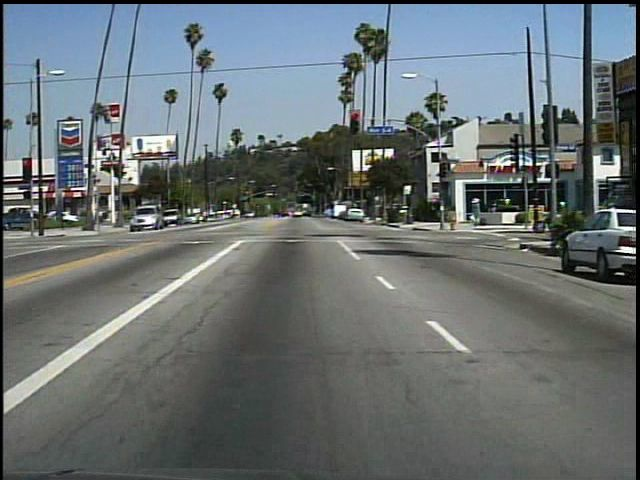person: (548, 194, 572, 235), (468, 193, 484, 227)
